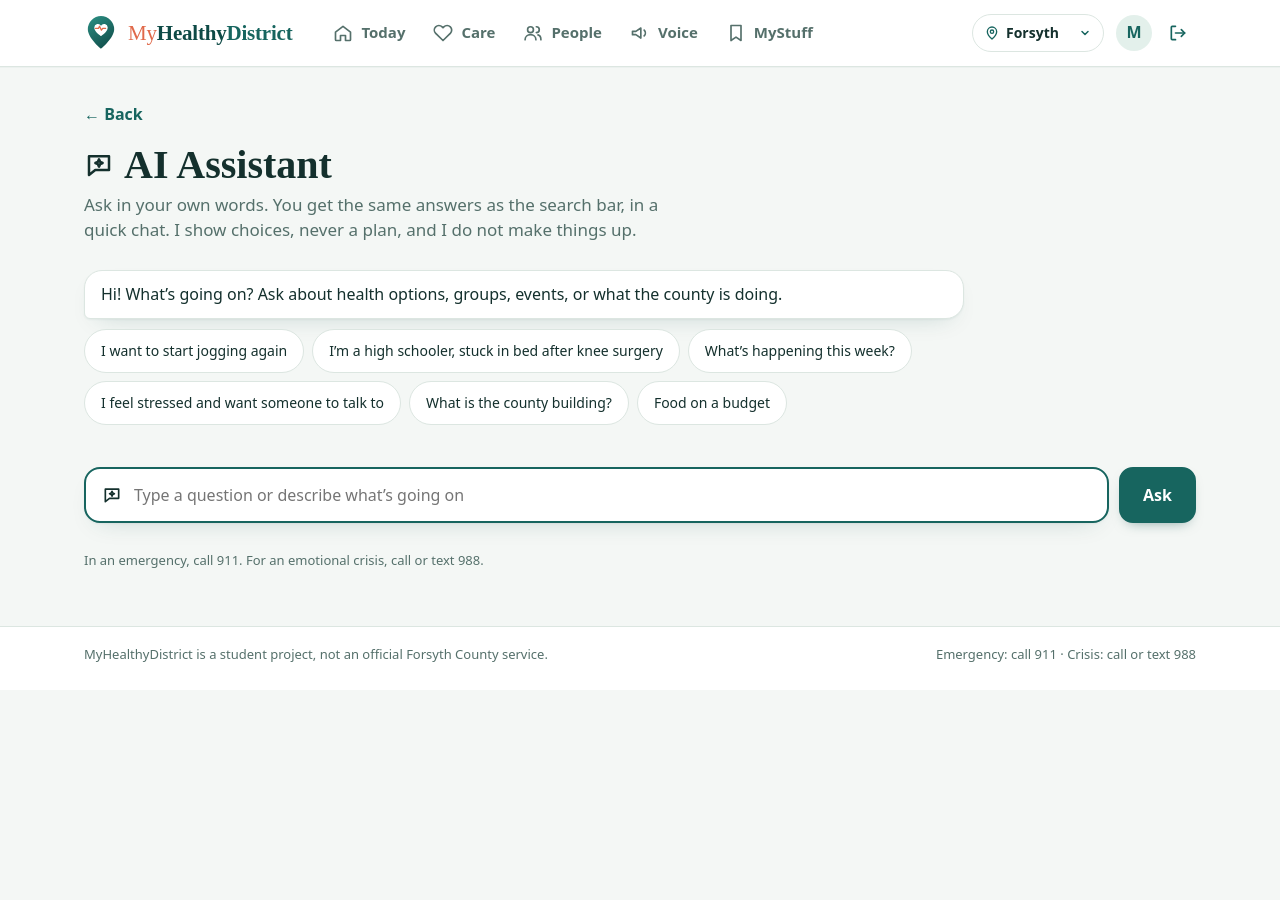
AI Assistant answers › answers county project questions with the same project cards as Voice
The width and height of the screenshot is (1280, 900).
Click the button "What is the county building?" at (519, 404), box [409, 382, 629, 426]
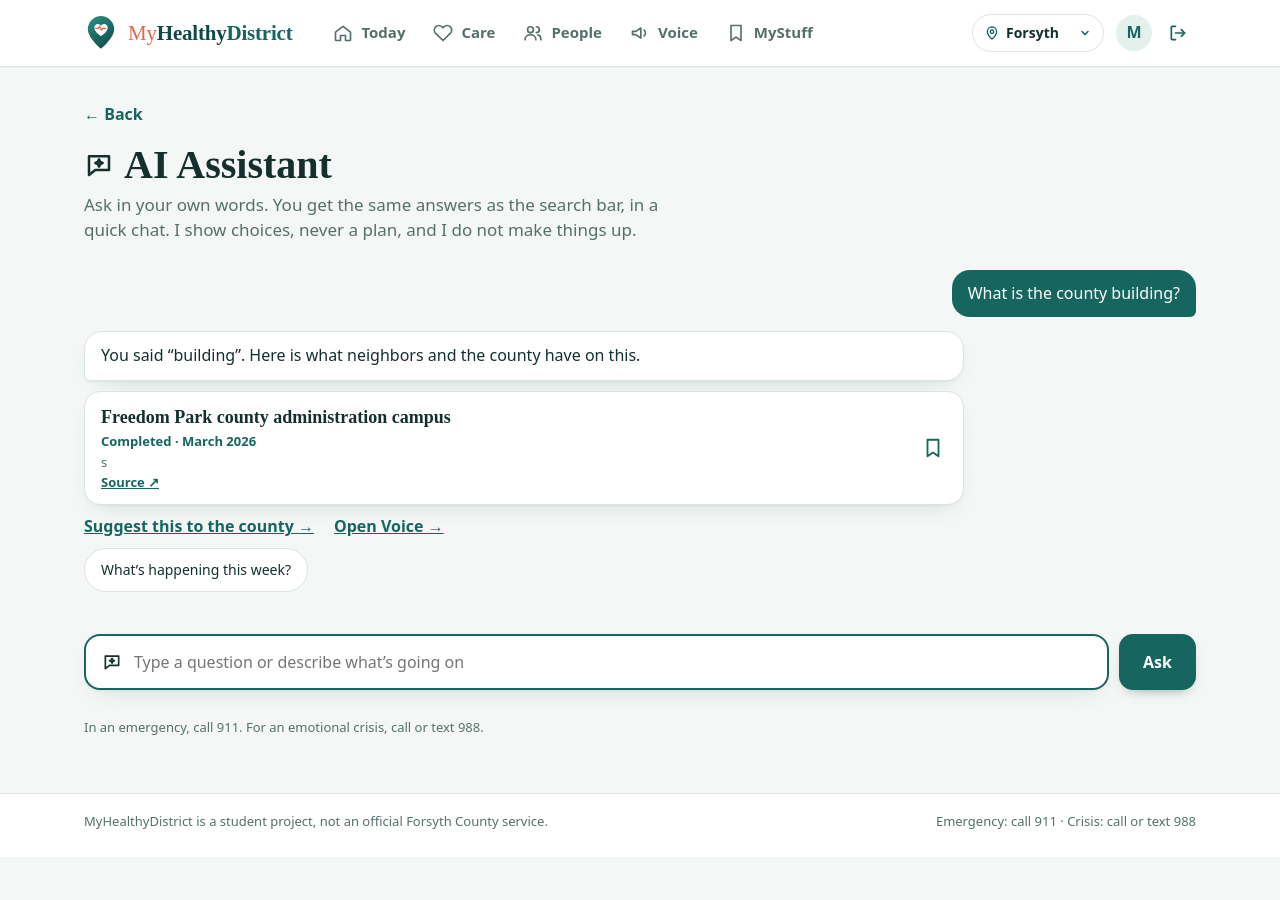
expect the element with test id "project-card" shows "Freedom Park county administration campus": met, box [101, 407, 451, 427]
expect the link "Suggest this to the county →" is shown: met, box [84, 515, 314, 538]
